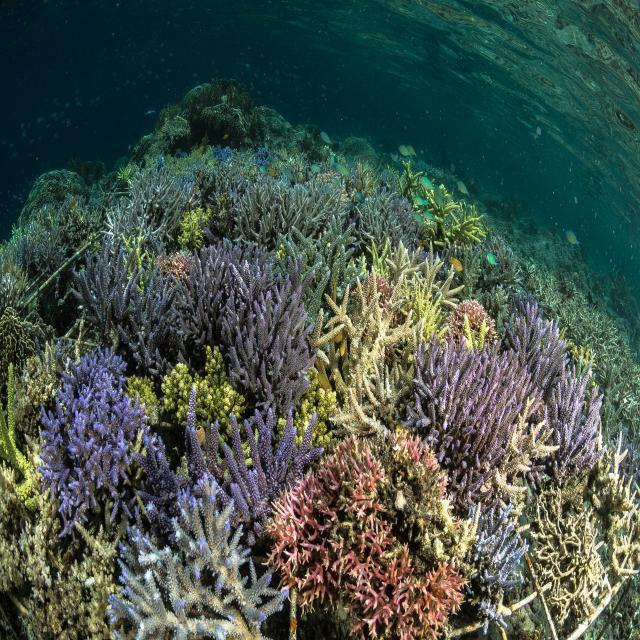Dead Coral: (533, 484, 608, 626)
Healthy Coral: (72, 244, 334, 388), (284, 445, 477, 631), (307, 250, 425, 432), (32, 362, 144, 552), (110, 517, 275, 631), (412, 328, 522, 482), (202, 401, 317, 518), (542, 362, 615, 470), (406, 160, 488, 249), (474, 506, 527, 593), (521, 304, 568, 393)
